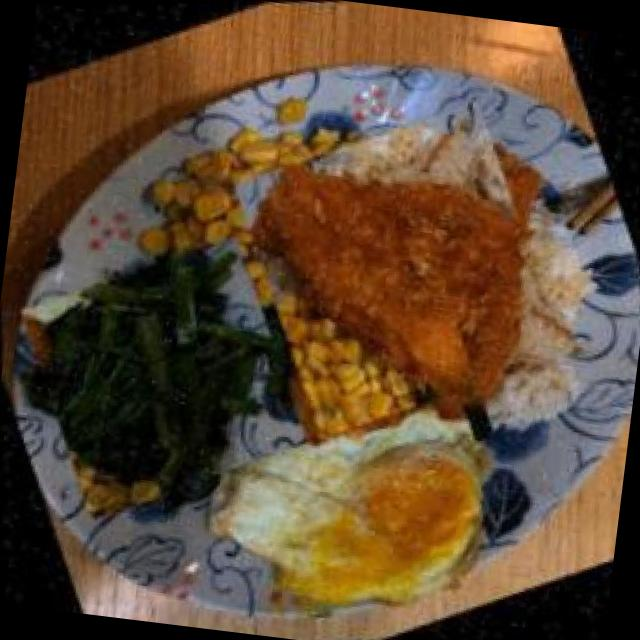fried_chicken: (178, 64, 638, 524)
fried_eggs: (167, 348, 546, 640)
rice: (401, 178, 640, 463)
water_spinach: (0, 198, 345, 555)
